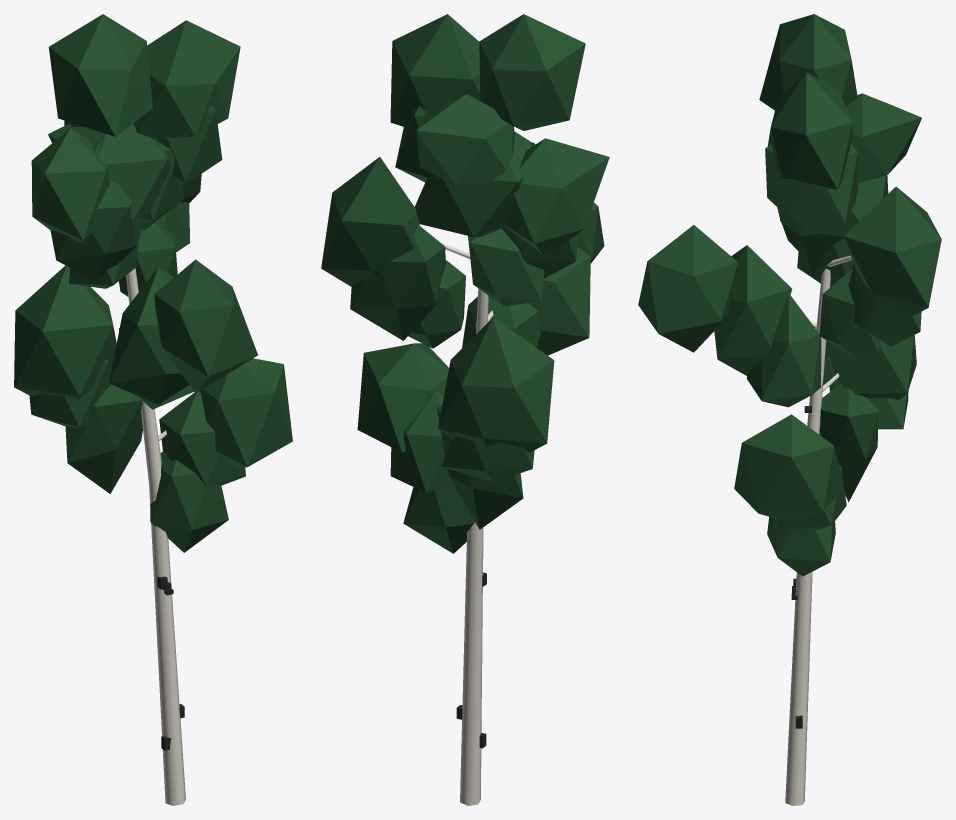
Rendered from tree-birch-1.glb.
The picture shows the model from 3 angles, left to right: view 1: azimuth 30°, elevation 25°; view 2: azimuth 150°, elevation 25°; view 3: azimuth 270°, elevation 25°; orthographic projection. The views are drawn at different scales.
Parts seen in each view (by area): view 1: 02_paint0, 00_#e0dcd0; view 2: 02_paint0, 00_#e0dcd0; view 3: 02_paint0, 00_#e0dcd0.
Boxes of the visible parts, x1=… form: 02_paint0: x1=14, y1=14, x2=292, y2=552; 00_#e0dcd0: x1=126, y1=268, x2=185, y2=805; 02_paint0: x1=321, y1=14, x2=609, y2=553; 00_#e0dcd0: x1=441, y1=243, x2=493, y2=805; 02_paint0: x1=638, y1=14, x2=941, y2=576; 00_#e0dcd0: x1=785, y1=255, x2=852, y2=805.
Size of the model in its own units: 5.18 by 16.4 by 5.94.
